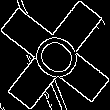O_SE: (22, 22, 88, 88)
